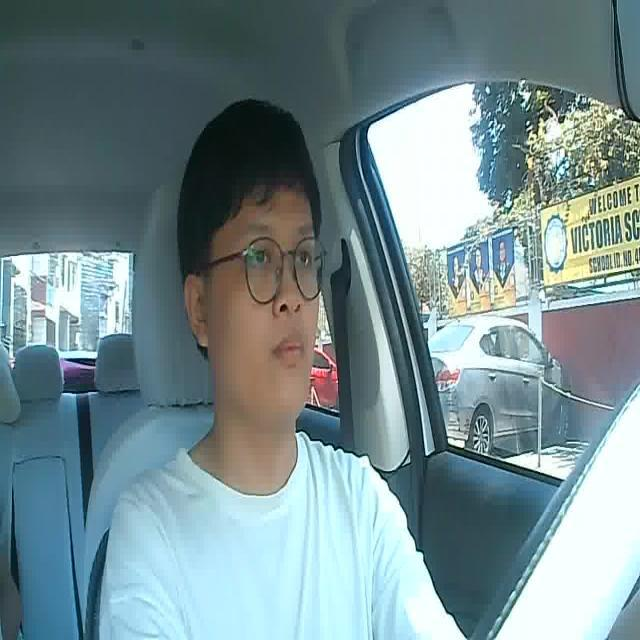Attentive: (174, 105, 320, 422)
Eye-Open: (246, 246, 278, 272), (292, 248, 314, 272)
Normal: (271, 332, 308, 368)
